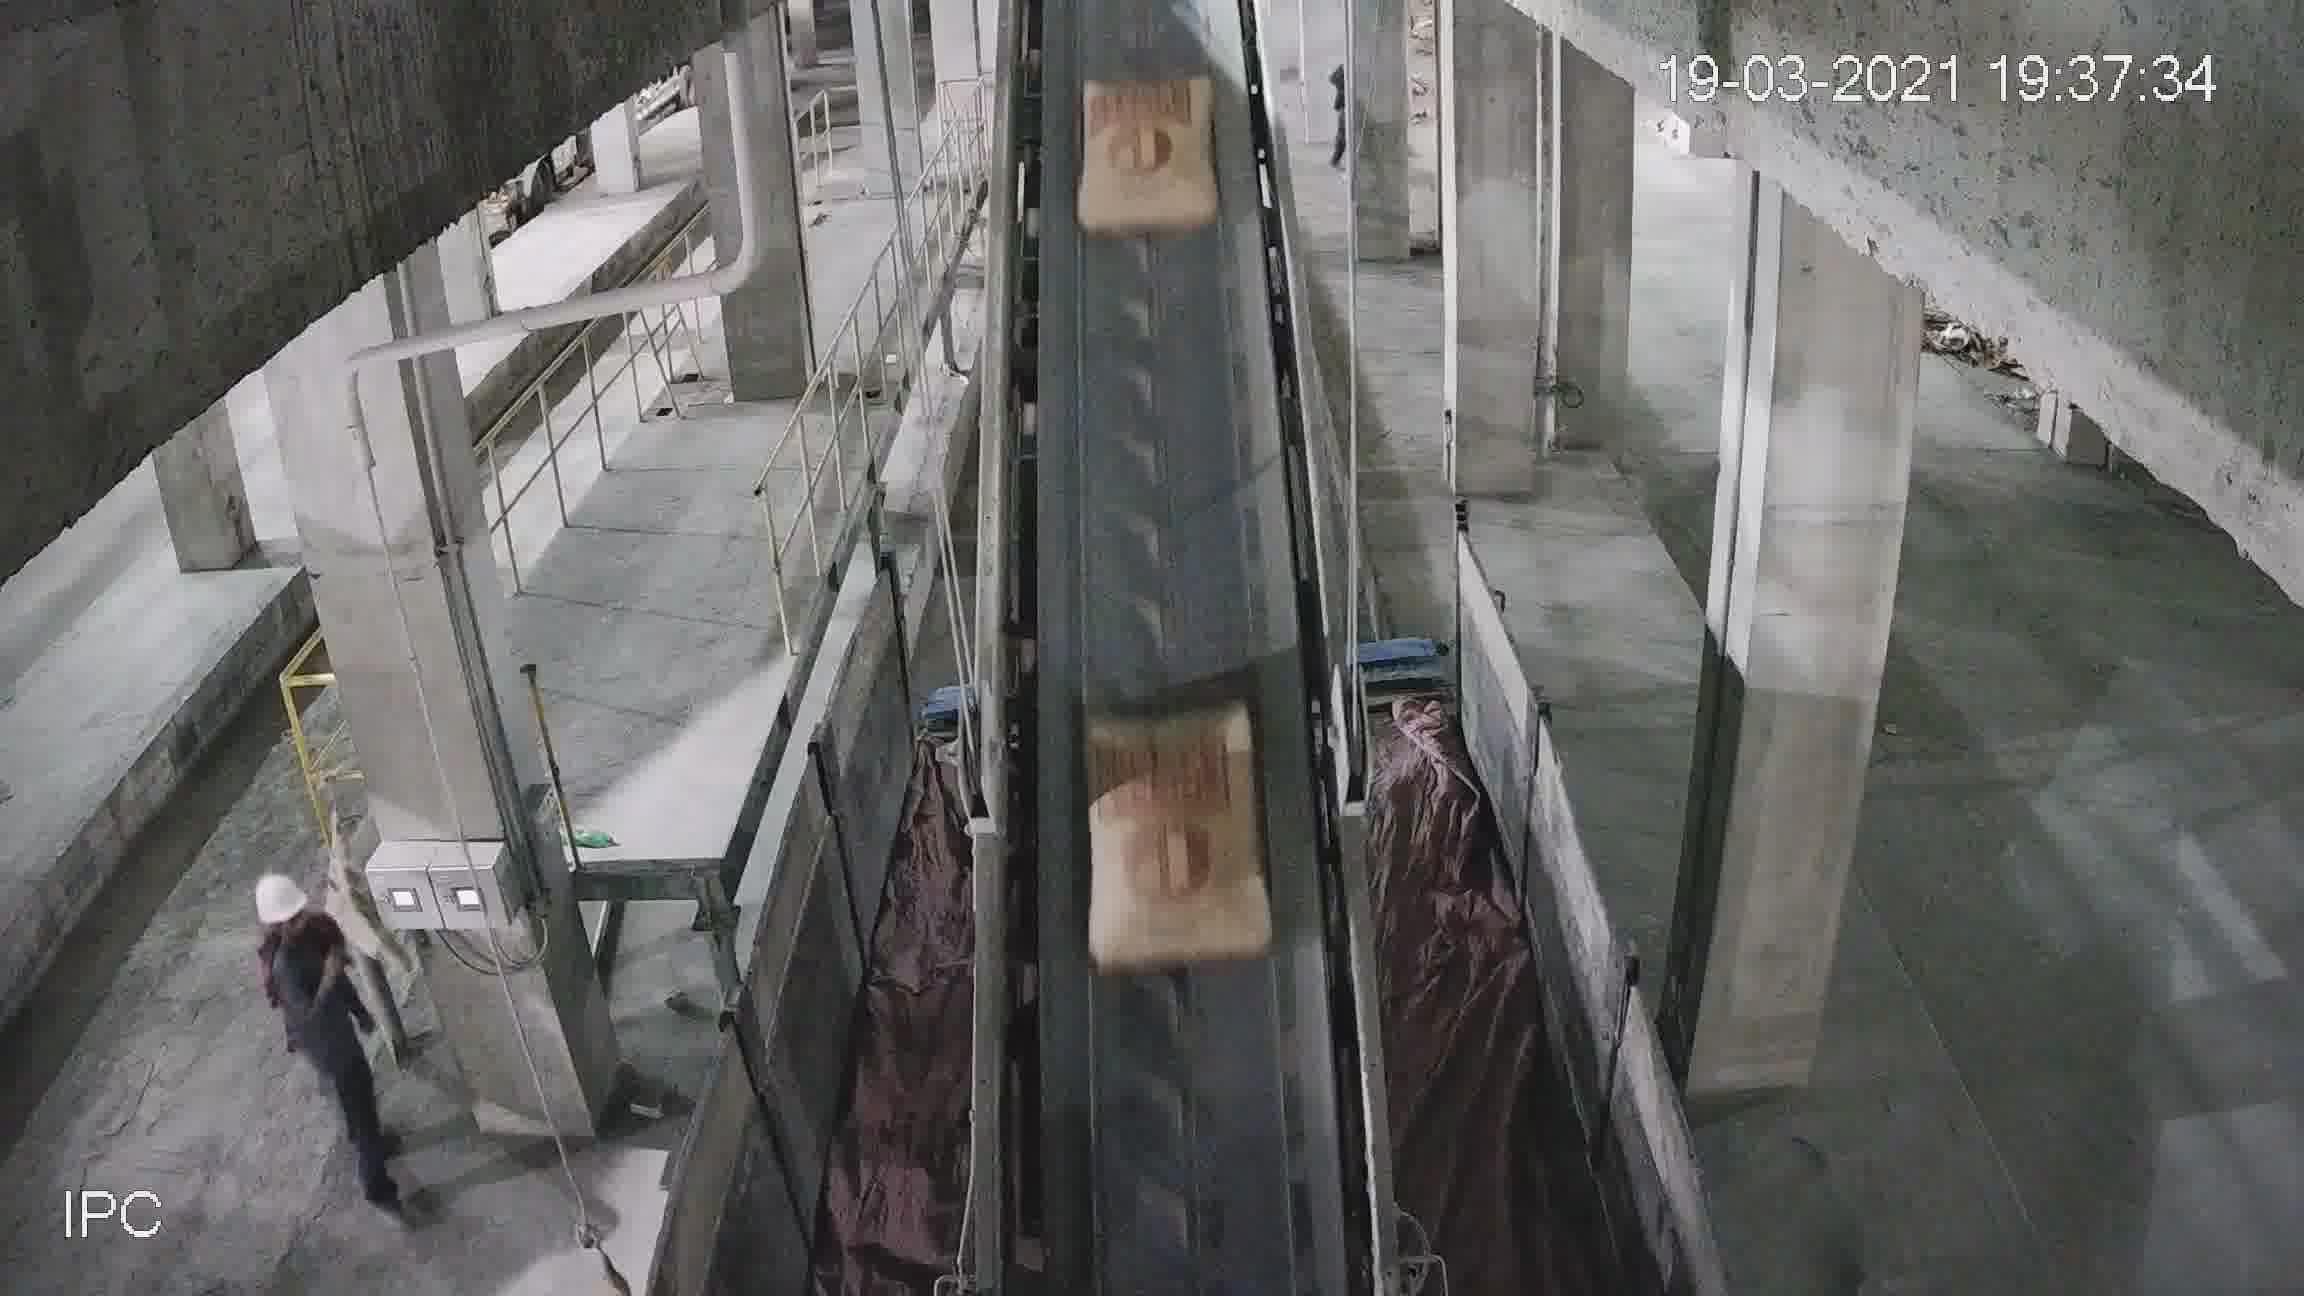bag: (1081, 706, 1260, 968), (1078, 70, 1218, 231)
belt: (992, 52, 1366, 1135)
